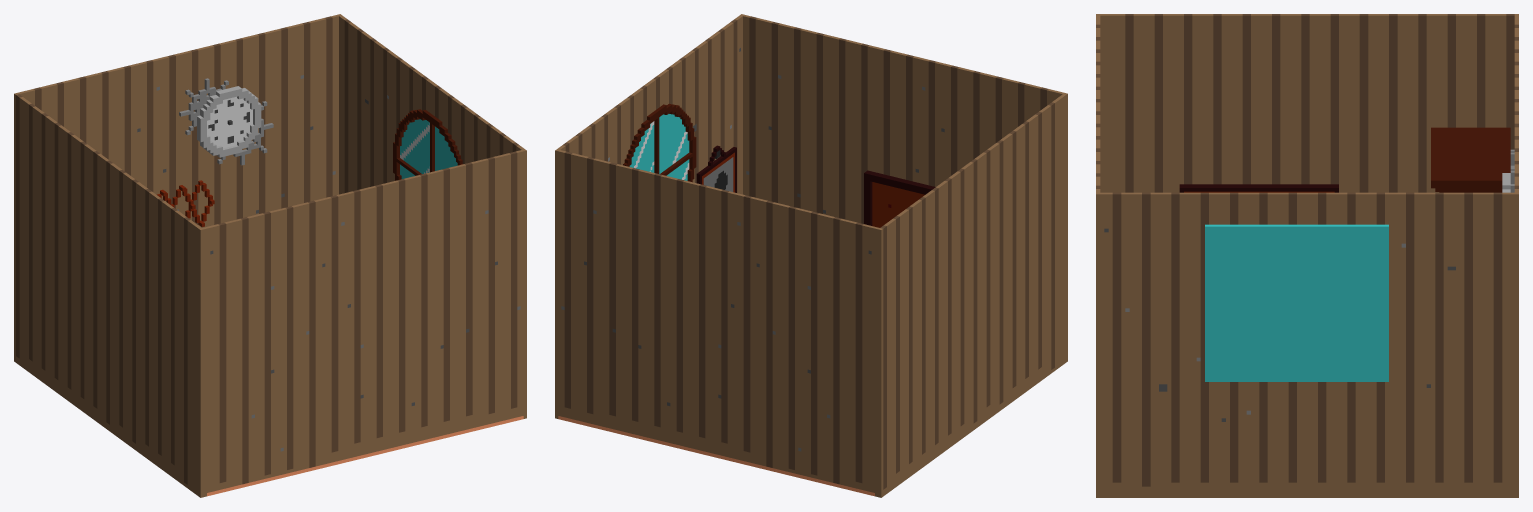
Rendered from room.obj.
The picture shows the model from 3 angles, left to right: view 1: azimuth 30°, elevation 25°; view 2: azimuth 150°, elevation 25°; view 3: azimuth 270°, elevation 25°; orthographic projection. The views are drawn at different scales.
Visible parts, largest first — view 1: room; view 2: room; view 3: room.
Boxes of the visible parts, bbox=[...] form: room: bbox=[14, 14, 526, 497]; room: bbox=[555, 14, 1067, 497]; room: bbox=[1096, 14, 1518, 497].
Size of the model in its own units: 103 by 80 by 101.
1 material, 1 textured.
